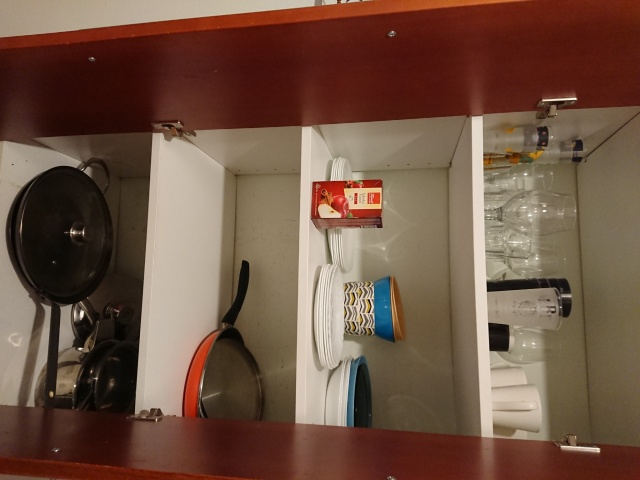Franck Apple Cinnamon Tea 60g: (308, 176, 386, 231)
